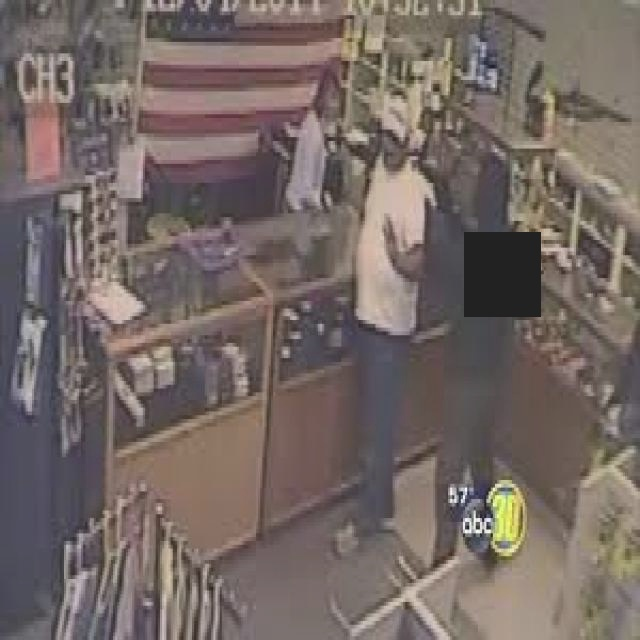gun: (412, 152, 461, 217)
